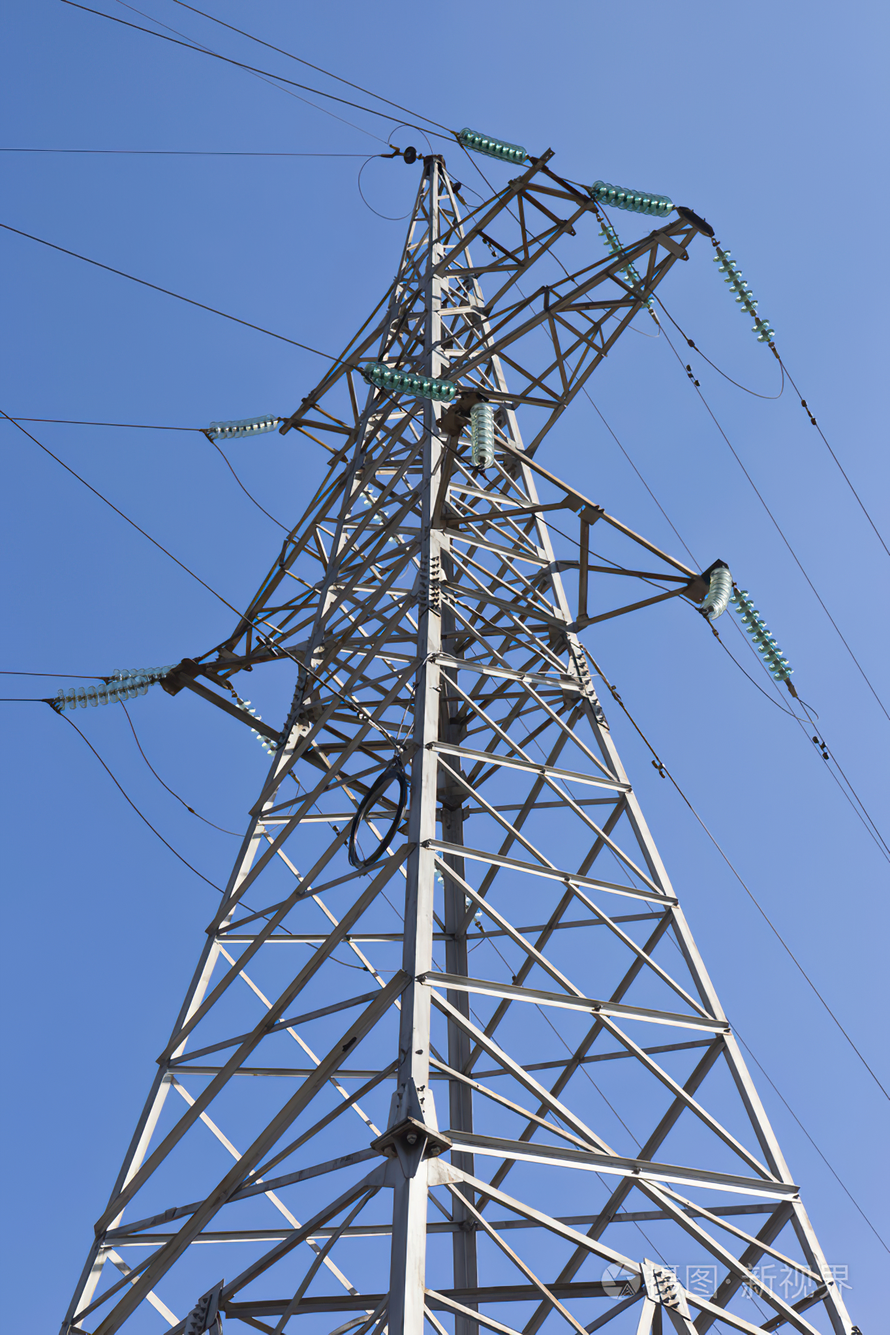insulator: (713, 243, 785, 355), (734, 587, 798, 686), (54, 660, 165, 710), (602, 226, 653, 314), (362, 358, 459, 396), (454, 118, 529, 162), (235, 696, 283, 762), (592, 179, 674, 217), (467, 402, 499, 465), (209, 410, 280, 437), (701, 568, 729, 622)
